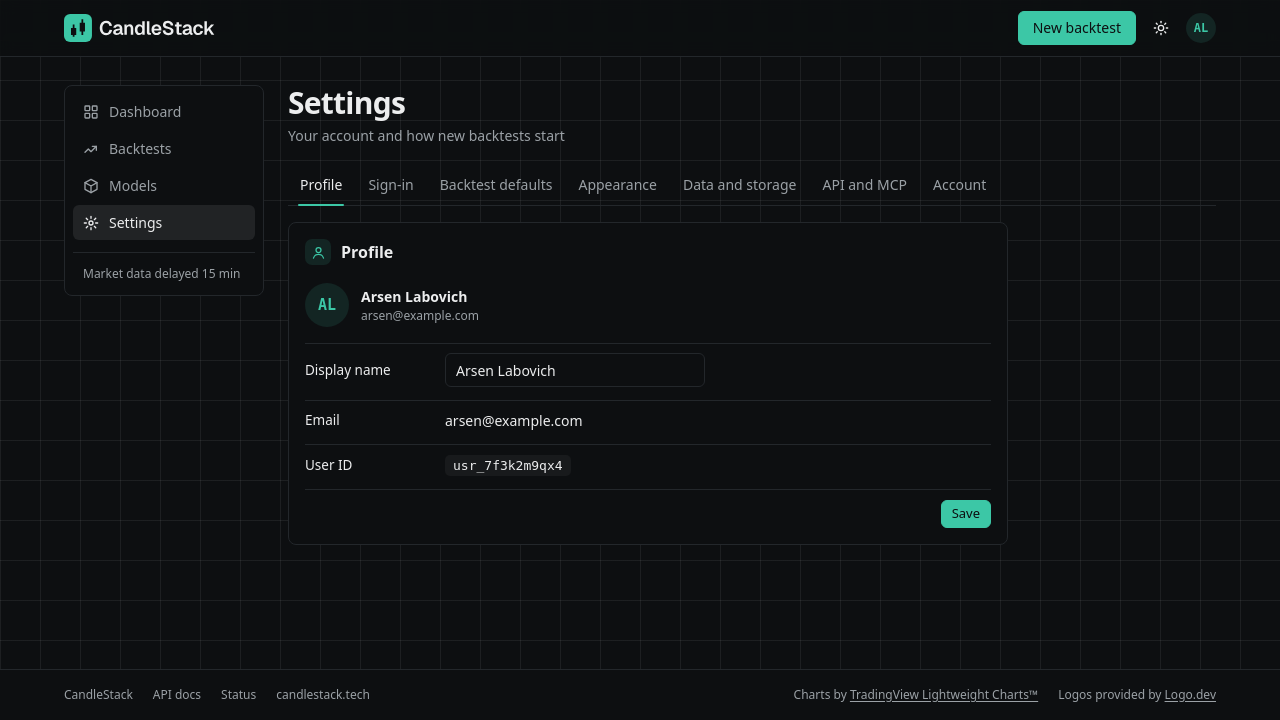
Test: Profile › saves a changed name, trimmed, and shows it everywhere
expect the button "Save" is enabled: met, box [941,500,991,528]
Replace the text in the field named "Display name" with "  Filip Hodoň " at (575, 370), box [445,353,705,387]
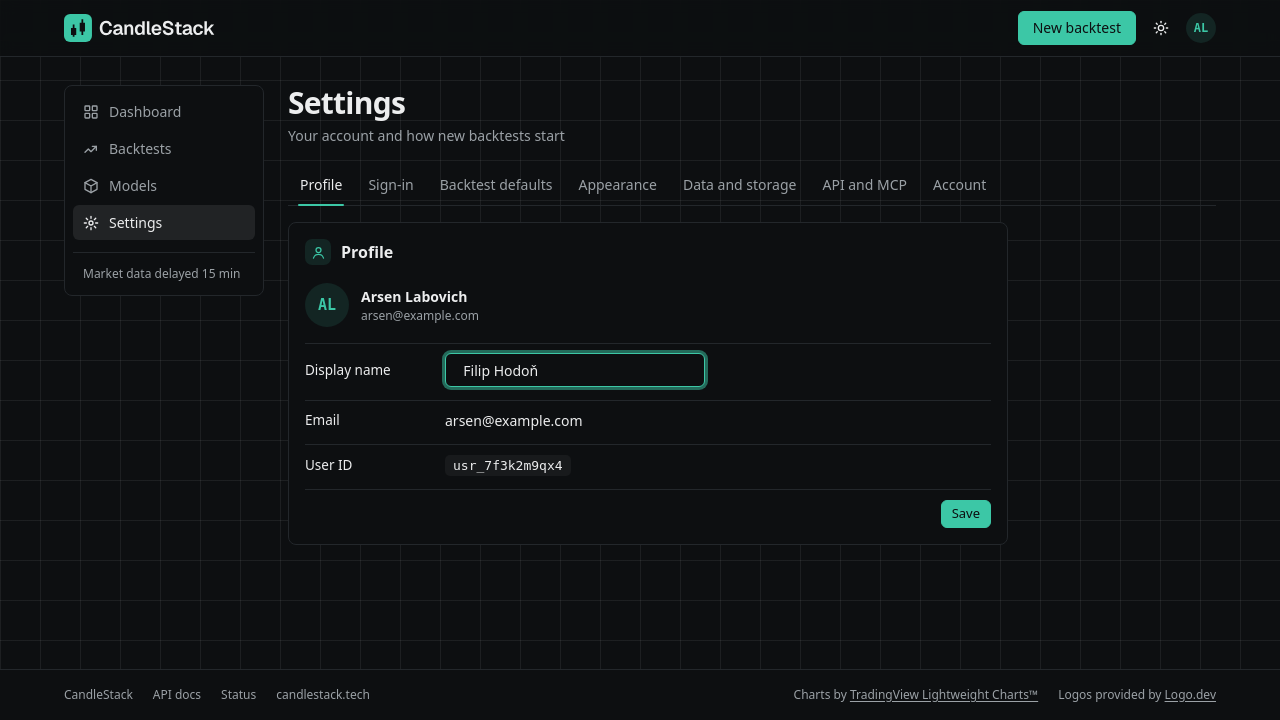
Click the button "Save" at (966, 514), box [941,500,991,528]
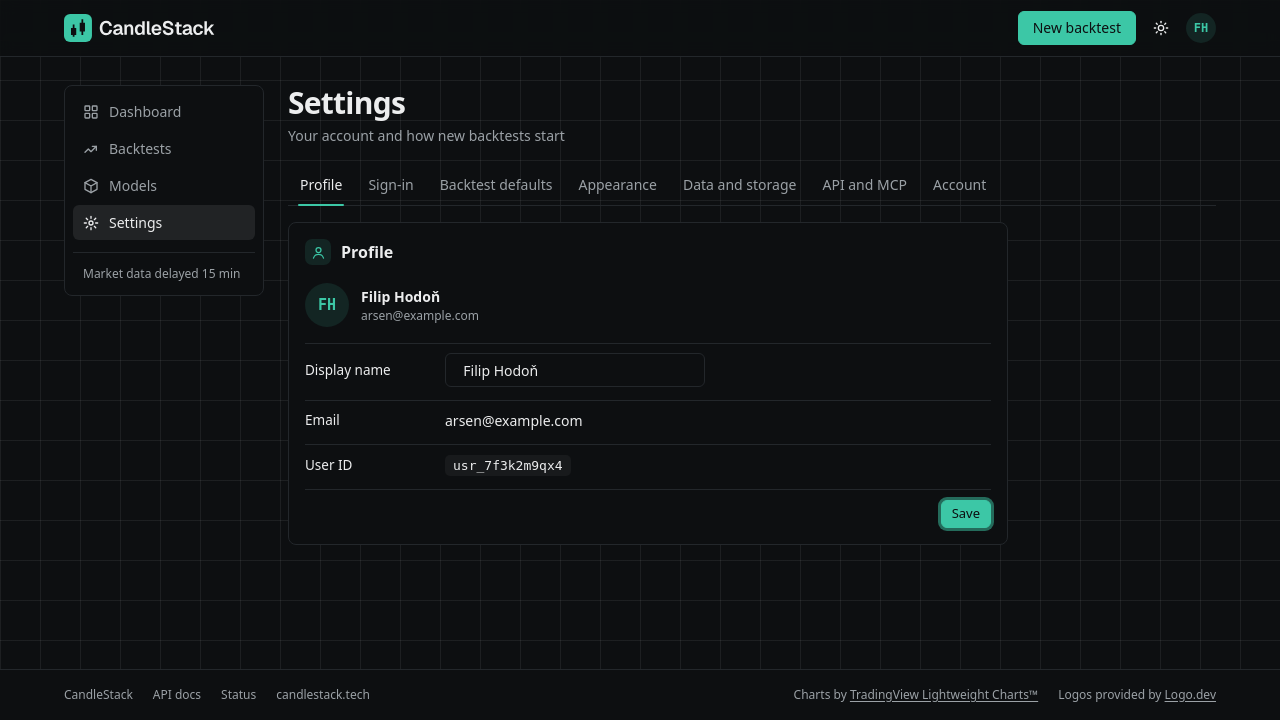
expect the button with aria-label "Account" reads "FH": met, box [1186,13,1216,43]
expect the text "Filip Hodoň" is shown: met, box [361,286,440,306]
